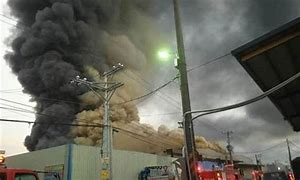smoke: (3, 1, 150, 144)
